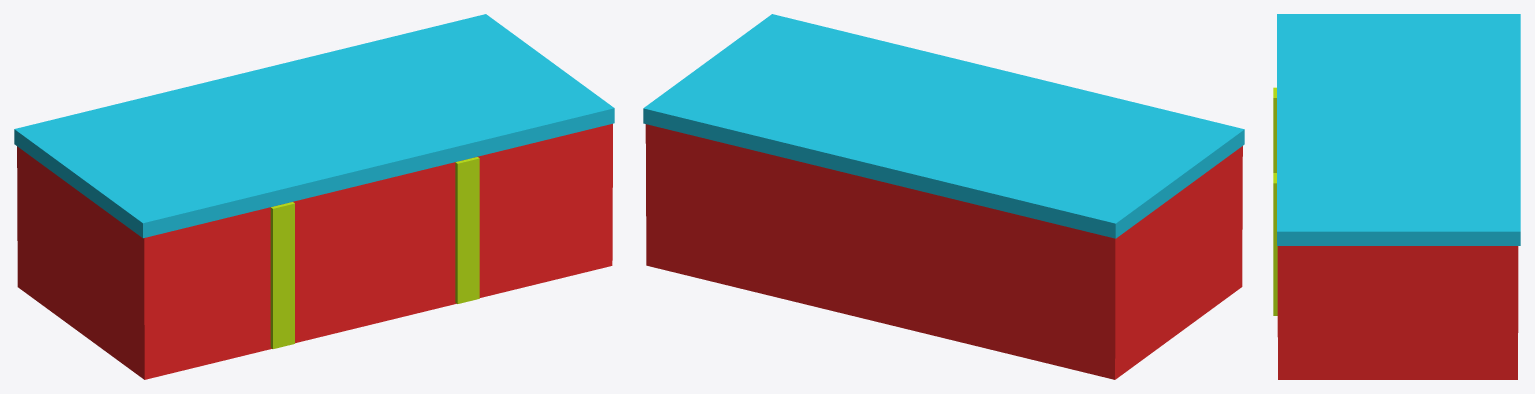
The model's file is Crate dicht.FBX.
3 views of the same model, side by side, from view 1: azimuth 30°, elevation 25°; view 2: azimuth 150°, elevation 25°; view 3: azimuth 270°, elevation 25° (orthographic). The views are drawn at different scales.
Parts seen in each view (by area): view 1: Box001, Box004, Box002, Box003; view 2: Box001, Box004; view 3: Box004, Box001, Box002, Box003.
Boxes of the visible parts, box(x1,y1,x2,y2) form: Box001: box(17, 123, 612, 379); Box004: box(14, 14, 614, 238); Box002: box(455, 157, 479, 303); Box003: box(270, 202, 294, 348); Box001: box(645, 124, 1242, 379); Box004: box(643, 14, 1244, 238); Box004: box(1277, 14, 1520, 245); Box001: box(1277, 246, 1518, 379); Box002: box(1273, 173, 1277, 315); Box003: box(1273, 87, 1276, 172).
Bounding box in the file's own units: 164 × 52.19 × 78.46.
